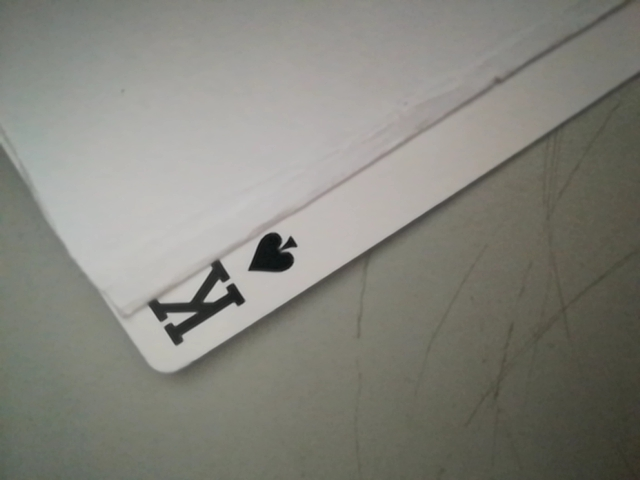ht k: (143, 222, 308, 363)
